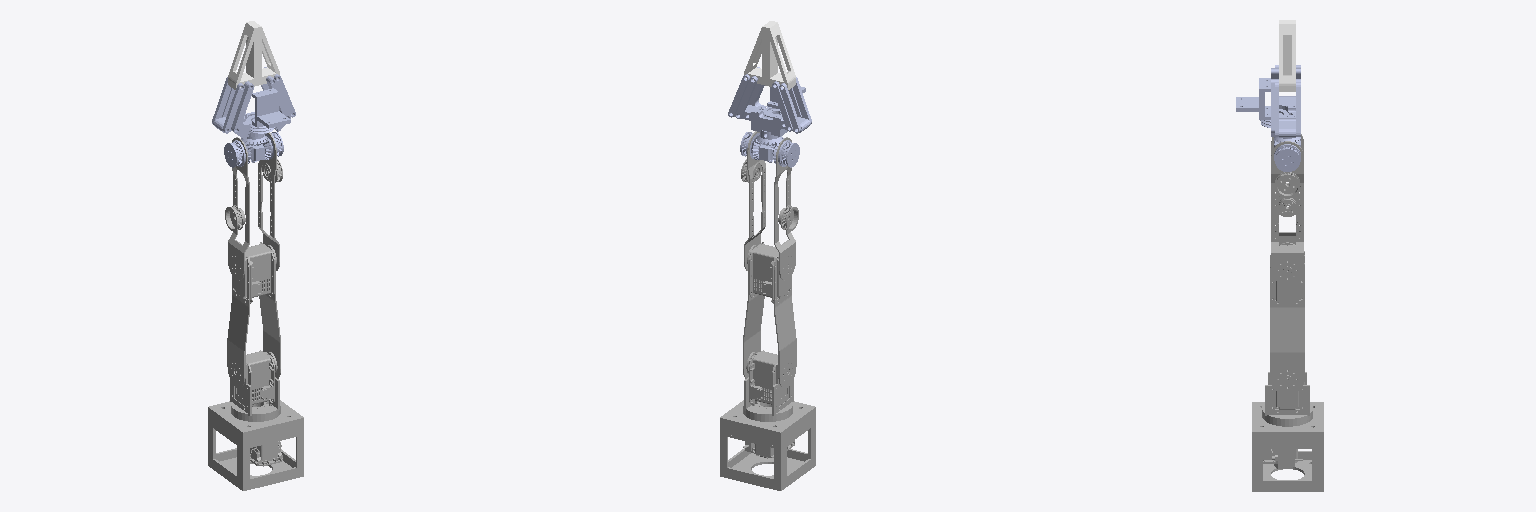
robot.urdf — arm_robot_description:
<?xml version="1.0" encoding="utf-8"?>
<!-- This URDF was automatically created by SolidWorks to URDF Exporter! Originally created by Stephen Brawner (brawner@gmail.com) 
     Commit Version: 1.6.0-4-g7f85cfe  Build Version: 1.6.7995.38578
     For more information, please see http://wiki.ros.org/sw_urdf_exporter -->
<robot
  name="arm_robot_description">
  <link
    name="base_link">
    <visual>
      <origin
        xyz="0 0 0"
        rpy="0 0 0" />
      <geometry>
        <mesh
          filename="package://arm_robot_description/meshes/base_link.STL" />
      </geometry>
      <material
        name="">
        <color
          rgba="0.752941176470588 0.752941176470588 0.752941176470588 1" />
      </material>
    </visual>
    <collision>
      <origin
        xyz="0 0 0"
        rpy="0 0 0" />
      <geometry>
        <mesh
          filename="package://arm_robot_description/meshes/base_link.STL" />
      </geometry>
    </collision>
  </link>
  <link
    name="shoulder_link">
    <inertial>
      <origin
        xyz="0.000963679642365663 0.0577904979483488 -9.50062831804183E-05"
        rpy="0 0 0" />
      <mass
        value="0.0937952908137171" />
      <inertia
        ixx="2.94163203677392E-05"
        ixy="-4.78216785521403E-07"
        ixz="-9.68291794152728E-08"
        iyy="2.60092518486733E-05"
        iyz="-1.13045243628439E-08"
        izz="3.10075174738564E-05" />
    </inertial>
    <visual>
      <origin
        xyz="0 0 0"
        rpy="0 0 0" />
      <geometry>
        <mesh
          filename="package://arm_robot_description/meshes/shoulder_link.STL" />
      </geometry>
      <material
        name="">
        <color
          rgba="0.752941176470588 0.752941176470588 0.752941176470588 1" />
      </material>
    </visual>
    <collision>
      <origin
        xyz="0 0 0"
        rpy="0 0 0" />
      <geometry>
        <mesh
          filename="package://arm_robot_description/meshes/shoulder_link.STL" />
      </geometry>
    </collision>
  </link>
  <joint
    name="shoulder_joint"
    type="revolute">
    <origin
      xyz="0.042 -0.042 0.052082"
      rpy="1.570796327 0 -3.1415926536" />
    <parent
      link="base_link" />
    <child
      link="shoulder_link" />
    <axis
      xyz="0 1 0" />
    <limit
      lower="-3.1415926536"
      upper="3.1415926536"
      effort="0"
      velocity="0" />
  </joint>
  <link
    name="upperarm_link">
    <inertial>
      <origin
        xyz="0.0393296521650432 -0.0955117843738581 3.5171956702662E-07"
        rpy="0 0 0" />
      <mass
        value="0.106266316809038" />
      <inertia
        ixx="9.43010109053496E-05"
        ixy="-5.069300878039E-07"
        ixz="4.25324654345257E-11"
        iyy="2.01302460392975E-05"
        iyz="1.88515951791571E-13"
        izz="9.21413861518418E-05" />
    </inertial>
    <visual>
      <origin
        xyz="0 0 0"
        rpy="0 0 0" />
      <geometry>
        <mesh
          filename="package://arm_robot_description/meshes/upperarm_link.STL" />
      </geometry>
      <material
        name="">
        <color
          rgba="0.752941176470588 0.752941176470588 0.752941176470588 1" />
      </material>
    </visual>
    <collision>
      <origin
        xyz="0 0 0"
        rpy="0 0 0" />
      <geometry>
        <mesh
          filename="package://arm_robot_description/meshes/upperarm_link.STL" />
      </geometry>
    </collision>
  </link>
  <joint
    name="upperarm_joint"
    type="revolute">
    <origin
      xyz="-0.036613 0.084019 0"
      rpy="3.1415926536 0 0" />
    <parent
      link="shoulder_link" />
    <child
      link="upperarm_link" />
    <axis
      xyz="1 0 0" />
    <limit
      lower="-1.570796327"
      upper="1.570796327"
      effort="0"
      velocity="0" />
  </joint>
  <link
    name="forearm_link">
    <inertial>
      <origin
        xyz="-0.00379914392129819 -0.0675895141224325 1.11022302462516E-16"
        rpy="0 0 0" />
      <mass
        value="0.0738289635729949" />
      <inertia
        ixx="0.000101606244132764"
        ixy="2.11583914183042E-22"
        ixz="-1.86726194029619E-12"
        iyy="8.93040327450558E-06"
        iyz="-3.01427046942224E-19"
        izz="9.41733072382026E-05" />
    </inertial>
    <visual>
      <origin
        xyz="0 0 0"
        rpy="0 0 0" />
      <geometry>
        <mesh
          filename="package://arm_robot_description/meshes/forearm_link.STL" />
      </geometry>
      <material
        name="">
        <color
          rgba="0.752941176470588 0.752941176470588 0.752941176470588 1" />
      </material>
    </visual>
    <collision>
      <origin
        xyz="0 0 0"
        rpy="0 0 0" />
      <geometry>
        <mesh
          filename="package://arm_robot_description/meshes/forearm_link.STL" />
      </geometry>
    </collision>
  </link>
  <joint
    name="forearm_joint"
    type="revolute">
    <origin
      xyz="0.035651 -0.14 0"
      rpy="3.1415926536 0 3.1415926536" />
    <parent
      link="upperarm_link" />
    <child
      link="forearm_link" />
    <axis
      xyz="1 0 0" />
    <limit
      lower="-1.570796327"
      upper="1.570796327"
      effort="0"
      velocity="0" />
  </joint>
  <link
    name="wrist_link">
    <inertial>
      <origin
        xyz="-5.9548301278578E-05 0.0309219607518911 -3.52055394473028E-05"
        rpy="0 0 0" />
      <mass
        value="0.0312687952088218" />
      <inertia
        ixx="2.36442877114977E-06"
        ixy="-2.65552878745857E-09"
        ixz="-2.24830540296741E-07"
        iyy="3.26245065540287E-06"
        iyz="4.49109404910189E-09"
        izz="2.53633915404046E-06" />
    </inertial>
    <visual>
      <origin
        xyz="0 0 0"
        rpy="0 0 0" />
      <geometry>
        <mesh
          filename="package://arm_robot_description/meshes/wrist_link.STL" />
      </geometry>
      <material
        name="">
        <color
          rgba="0.792156862745098 0.819607843137255 0.933333333333333 1" />
      </material>
    </visual>
    <collision>
      <origin
        xyz="0 0 0"
        rpy="0 0 0" />
      <geometry>
        <mesh
          filename="package://arm_robot_description/meshes/wrist_link.STL" />
      </geometry>
    </collision>
  </link>
  <joint
    name="wrist_joint"
    type="revolute">
    <origin
      xyz="-0.035049 -0.145 0"
      rpy="0 -0.96942 -1.570796327" />
    <parent
      link="forearm_link" />
    <child
      link="wrist_link" />
    <axis
      xyz="0 -1 0" />
    <limit
      lower="-1.6"
      upper="1.6"
      effort="0"
      velocity="0" />
  </joint>
  <link
    name="frame_link">
    <inertial>
      <origin
        xyz="0.00423615580807838 0.00251757352994463 0.037073257530931"
        rpy="0 0 0" />
      <mass
        value="0.0971603253782602" />
      <inertia
        ixx="3.61475773412502E-05"
        ixy="1.3650130640794E-05"
        ixz="7.26831148623548E-07"
        iyy="2.03809535466644E-05"
        iyz="4.18500158510254E-07"
        izz="4.68109199288427E-05" />
    </inertial>
    <visual>
      <origin
        xyz="0 0 0"
        rpy="0 0 0" />
      <geometry>
        <mesh
          filename="package://arm_robot_description/meshes/frame_link.STL" />
      </geometry>
      <material
        name="">
        <color
          rgba="0.792156862745098 0.819607843137255 0.933333333333333 1" />
      </material>
    </visual>
    <collision>
      <origin
        xyz="0 0 0"
        rpy="0 0 0" />
      <geometry>
        <mesh
          filename="package://arm_robot_description/meshes/frame_link.STL" />
      </geometry>
    </collision>
  </link>
  <joint
    name="frame_joint"
    type="revolute">
    <origin
      xyz="0.0036775 0.03125 -0.0053596"
      rpy="-2.8111 0.51206 -2.5307" />
    <parent
      link="wrist_link" />
    <child
      link="frame_link" />
    <axis
      xyz="0 0 1" />
    <limit
      lower="-3.1415926536"
      upper="3.1415926536"
      effort="0"
      velocity="0" />
  </joint>
  <link
    name="worm_link">
    <inertial>
      <origin
        xyz="0.000260518944933091 0.000117382605098179 0.00451004543272632"
        rpy="0 0 0" />
      <mass
        value="0.00449816970666781" />
      <inertia
        ixx="4.14594786131159E-07"
        ixy="1.40083855679959E-10"
        ixz="-2.46228289212281E-10"
        iyy="4.1416094521697E-07"
        iyz="-1.00268234450091E-09"
        izz="7.65193389522088E-07" />
    </inertial>
    <visual>
      <origin
        xyz="0 0 0"
        rpy="0 0 0" />
      <geometry>
        <mesh
          filename="package://arm_robot_description/meshes/worm_link.STL" />
      </geometry>
      <material
        name="">
        <color
          rgba="0.792156862745098 0.819607843137255 0.933333333333333 1" />
      </material>
    </visual>
    <collision>
      <origin
        xyz="0 0 0"
        rpy="0 0 0" />
      <geometry>
        <mesh
          filename="package://arm_robot_description/meshes/worm_link.STL" />
      </geometry>
    </collision>
  </link>
  <joint
    name="worm_joint"
    type="revolute">
    <origin
      xyz="0.01299 0.0075 0.038"
      rpy="3.1415926536 0 -3.0183" />
    <parent
      link="frame_link" />
    <child
      link="worm_link" />
    <axis
      xyz="0 0 1" />
    <limit
      lower="0"
      upper="3.1415926536"
      effort="0"
      velocity="0" />
  </joint>
  <link
    name="camera_link">
    <inertial>
      <origin
        xyz="-5.1064E-05 0.021054 0.0043102"
        rpy="0 0 0" />
      <mass
        value="0.06" />
      <inertia
        ixx="6.3369E-06"
        ixy="-1.7614E-10"
        ixz="-1.0223E-09"
        iyy="6.3143E-06"
        iyz="-2.0617E-09"
        izz="1.1586E-05" />
    </inertial>
    <!--<visual>
      <origin
        xyz="0 0 0"
        rpy="0 0 0" />
      <geometry>
        <mesh
          filename="package://arm_robot_description/meshes/camera_link.STL" />
      </geometry>
      <material
        name="">
        <color
          rgba="1 1 1 1" />
      </material>
    </visual>
    <collision>
      <origin
        xyz="0 0 0"
        rpy="0 0 0" />
      <geometry>
        <mesh
          filename="package://arm_robot_description/meshes/camera_link.STL" />
      </geometry>
    </collision>-->
  </link>
  <joint
    name="camera_joint"
    type="fixed">
    <origin
      xyz="0.028329 0.016933 0.06075"
      rpy="-1.5707963268 -1.5707963268 -1.0472" /> <!-- This reorients the camera AND pointcloud -->
    <parent
      link="frame_link" />
    <child
      link="camera_link" />
    <axis
      xyz="0 0 0" />
  </joint>
  <link
    name="left_inner_link">
    <inertial>
      <origin
        xyz="0.00295374681981073 -0.00172924903482494 -0.0202562653029812"
        rpy="0 0 0" />
      <mass
        value="0.00921636410970939" />
      <inertia
        ixx="3.15977166254403E-06"
        ixy="8.94327155107839E-11"
        ixz="-4.83078423739066E-07"
        iyy="3.37677241931955E-06"
        iyz="1.24222051728893E-10"
        izz="3.4311273454431E-07" />
    </inertial>
    <visual>
      <origin
        xyz="0 0 0"
        rpy="0 0 0" />
      <geometry>
        <mesh
          filename="package://arm_robot_description/meshes/left_inner_link.STL" />
      </geometry>
      <material
        name="">
        <color
          rgba="0.792156862745098 0.819607843137255 0.933333333333333 1" />
      </material>
    </visual>
    <collision>
      <origin
        xyz="0 0 0"
        rpy="0 0 0" />
      <geometry>
        <mesh
          filename="package://arm_robot_description/meshes/left_inner_link.STL" />
      </geometry>
    </collision>
  </link>
  <joint
    name="left_inner_joint"
    type="revolute">
    <origin
      xyz="0.02616 -0.025311 0.035"
      rpy="3.1415926536 0.37217 2.0944" />
    <parent
      link="frame_link" />
    <child
      link="left_inner_link" />
    <axis
      xyz="0 1 0" />
    <limit
      lower="0"
      upper="0.6"
      effort="0"
      velocity="0" />
    <mimic
      joint="worm_joint"
      multiplier="0.190991564"
      offset="0" />
  </joint>
  <link
    name="left_finger_link">
    <inertial>
      <origin
        xyz="0.00511565604680594 0.0100000000000003 -0.0244249931550103"
        rpy="0 0 0" />
      <mass
        value="0.0160596004014874" />
      <inertia
        ixx="9.38451157380704E-06"
        ixy="-3.43741641172726E-21"
        ixz="1.54039618799638E-06"
        iyy="1.0073020861505E-05"
        iyz="8.98402572391069E-21"
        izz="1.87995862434743E-06" />
    </inertial>
    <visual>
      <origin
        xyz="0 0 0"
        rpy="0 0 0" />
      <geometry>
        <mesh
          filename="package://arm_robot_description/meshes/left_finger_link.STL" />
      </geometry>
      <material
        name="">
        <color
          rgba="1 1 1 1" />
      </material>
    </visual>
    <collision>
      <origin
        xyz="0 0 0"
        rpy="0 0 0" />
      <geometry>
        <mesh
          filename="package://arm_robot_description/meshes/left_finger_link.STL" />
      </geometry>
    </collision>
  </link>
  <joint
    name="left_finger_joint"
    type="revolute">
    <origin
      xyz="0 -0.02 -0.055"
      rpy="0 0.37217 0" />
    <parent
      link="left_inner_link" />
    <child
      link="left_finger_link" />
    <axis
      xyz="0 1 0" />
    <limit
      lower="-0.6"
      upper="0"
      effort="0"
      velocity="0" />
    <mimic
      joint="left_inner_joint"
      multiplier="-1"
      offset="0" />
  </joint>
  <link
    name="right_inner_link">
    <inertial>
      <origin
        xyz="0.00295374681981056 0.0117276610278346 -0.0202562653029817"
        rpy="0 0 0" />
      <mass
        value="0.00921636410970938" />
      <inertia
        ixx="3.15977166254403E-06"
        ixy="8.94327155090331E-11"
        ixz="-4.83078423739054E-07"
        iyy="3.37677241931954E-06"
        iyz="1.24222051731463E-10"
        izz="3.43112734544309E-07" />
    </inertial>
    <visual>
      <origin
        xyz="0 0 0"
        rpy="0 0 0" />
      <geometry>
        <mesh
          filename="package://arm_robot_description/meshes/right_inner_link.STL" />
      </geometry>
      <material
        name="">
        <color
          rgba="0.792156862745098 0.819607843137255 0.933333333333333 1" />
      </material>
    </visual>
    <collision>
      <origin
        xyz="0 0 0"
        rpy="0 0 0" />
      <geometry>
        <mesh
          filename="package://arm_robot_description/meshes/right_inner_link.STL" />
      </geometry>
    </collision>
  </link>
  <joint
    name="right_inner_joint"
    type="revolute">
    <origin
      xyz="-0.00017949 0.040311 0.035"
      rpy="3.1415926536 0.37217 -1.0472" />
    <parent
      link="frame_link" />
    <child
      link="right_inner_link" />
    <axis
      xyz="0 -1 0" />
    <limit
      lower="-0.6"
      upper="0"
      effort="0"
      velocity="0" />
    <mimic
      joint="worm_joint"
      multiplier="-0.190991564"
      offset="0" />
  </joint>
  <link
    name="right_finger_link">
    <inertial>
      <origin
        xyz="0.00511565604680823 0.00999999999999974 -0.0244249931550099"
        rpy="0 0 0" />
      <mass
        value="0.0160596004014874" />
      <inertia
        ixx="9.38451157380674E-06"
        ixy="-3.65454764450331E-21"
        ixz="1.54039618799715E-06"
        iyy="1.0073020861505E-05"
        iyz="7.47838052557991E-21"
        izz="1.87995862434775E-06" />
    </inertial>
    <visual>
      <origin
        xyz="0 0 0"
        rpy="0 0 0" />
      <geometry>
        <mesh
          filename="package://arm_robot_description/meshes/right_finger_link.STL" />
      </geometry>
      <material
        name="">
        <color
          rgba="1 1 1 1" />
      </material>
    </visual>
    <collision>
      <origin
        xyz="0 0 0"
        rpy="0 0 0" />
      <geometry>
        <mesh
          filename="package://arm_robot_description/meshes/right_finger_link.STL" />
      </geometry>
    </collision>
  </link>
  <joint
    name="right_finger_joint"
    type="revolute">
    <origin
      xyz="0 0.01 -0.055"
      rpy="0 0.37217 0" />
    <parent
      link="right_inner_link" />
    <child
      link="right_finger_link" />
    <axis
      xyz="0 1 0" />
    <limit
      lower="-0.6"
      upper="0"
      effort="0"
      velocity="0" />
    <mimic
      joint="right_inner_joint"
      multiplier="1"
      offset="0" />
  </joint>
  <link
    name="left_outer_link">
    <inertial>
      <origin
        xyz="1.11022302462516E-16 -0.00999999999999943 -0.0274999999999999"
        rpy="0 0 0" />
      <mass
        value="0.00450995574287564" />
      <inertia
        ixx="1.25004679866384E-06"
        ixy="8.80640842801115E-24"
        ixz="-3.18299099710405E-21"
        iyy="1.26551475118266E-06"
        iyz="4.5157491829455E-22"
        izz="3.42594347808008E-08" />
    </inertial>
    <visual>
      <origin
        xyz="0 0 0"
        rpy="0 0 0" />
      <geometry>
        <mesh
          filename="package://arm_robot_description/meshes/left_outer_link.STL" />
      </geometry>
      <material
        name="">
        <color
          rgba="0.792156862745098 0.819607843137255 0.933333333333333 1" />
      </material>
    </visual>
    <collision>
      <origin
        xyz="0 0 0"
        rpy="0 0 0" />
      <geometry>
        <mesh
          filename="package://arm_robot_description/meshes/left_outer_link.STL" />
      </geometry>
    </collision>
  </link>
  <joint
    name="left_outer_joint"
    type="revolute">
    <origin
      xyz="0.03116 -0.033971 0.035"
      rpy="3.1415926536 0.37217 2.0944" />
    <parent
      link="frame_link" />
    <child
      link="left_outer_link" />
    <axis
      xyz="0 1 0" />
    <limit
      lower="0"
      upper="0.6"
      effort="0"
      velocity="0" />
    <mimic
      joint="left_inner_joint"
      multiplier="1"
      offset="0" />
  </joint>
  <link
    name="right_outer_link">
    <inertial>
      <origin
        xyz="2.77555756156289E-17 0.015 -0.0275"
        rpy="0 0 0" />
      <mass
        value="0.00450995574287564" />
      <inertia
        ixx="1.25004679866384E-06"
        ixy="-8.75366721974071E-24"
        ixz="-1.1059404789834E-21"
        iyy="1.26551475118266E-06"
        iyz="-5.0099741919037E-22"
        izz="3.42594347808009E-08" />
    </inertial>
    <visual>
      <origin
        xyz="0 0 0"
        rpy="0 0 0" />
      <geometry>
        <mesh
          filename="package://arm_robot_description/meshes/right_outer_link.STL" />
      </geometry>
      <material
        name="">
        <color
          rgba="0.792156862745098 0.819607843137255 0.933333333333333 1" />
      </material>
    </visual>
    <collision>
      <origin
        xyz="0 0 0"
        rpy="0 0 0" />
      <geometry>
        <mesh
          filename="package://arm_robot_description/meshes/right_outer_link.STL" />
      </geometry>
    </collision>
  </link>
  <joint
    name="right_outer_joint"
    type="revolute">
    <origin
      xyz="-0.0095096 0.046471 0.035"
      rpy="3.1415926536 0.37217 -1.0472" />
    <parent
      link="frame_link" />
    <child
      link="right_outer_link" />
    <axis
      xyz="0 -1 0" />
    <limit
      lower="-0.6"
      upper="0"
      effort="0"
      velocity="0" />
    <mimic
      joint="right_inner_joint"
      multiplier="1"
      offset="0" />
  </joint>
</robot>

--- What the picture shows (computed from the rendered views, not written in the file) ---
3 views of the same robot in one strip: view 1: azimuth 30°, elevation 25°; view 2: azimuth 150°, elevation 25°; view 3: azimuth 270°, elevation 25° (orthographic).
Robot: arm_robot_description — 14 links, 13 joints (12 revolute, 1 fixed); root link base_link; default pose: all joints at 0.
Links seen in each view (by area): view 1: base_link, upperarm_link, forearm_link, shoulder_link, frame_link, left_finger_link, wrist_link, left_inner_link, right_finger_link, left_outer_link; view 2: base_link, upperarm_link, forearm_link, shoulder_link, frame_link, left_finger_link, wrist_link, right_finger_link, left_outer_link, right_inner_link; view 3: base_link, upperarm_link, forearm_link, shoulder_link, frame_link, right_finger_link, wrist_link.
Link boxes in pixels (bbox=[...]): base_link: bbox=[208, 400, 303, 490]; upperarm_link: bbox=[227, 242, 280, 388]; forearm_link: bbox=[225, 132, 282, 280]; shoulder_link: bbox=[230, 350, 280, 421]; frame_link: bbox=[213, 88, 292, 162]; left_finger_link: bbox=[228, 21, 257, 89]; wrist_link: bbox=[224, 132, 283, 167]; left_inner_link: bbox=[222, 81, 253, 139]; right_finger_link: bbox=[250, 21, 279, 85]; left_outer_link: bbox=[212, 77, 244, 133]; base_link: bbox=[720, 400, 815, 490]; upperarm_link: bbox=[743, 242, 796, 388]; forearm_link: bbox=[741, 131, 798, 280]; shoulder_link: bbox=[743, 350, 793, 421]; frame_link: bbox=[731, 86, 810, 162]; left_finger_link: bbox=[766, 21, 795, 89]; wrist_link: bbox=[740, 132, 799, 167]; right_finger_link: bbox=[744, 21, 773, 85]; left_outer_link: bbox=[779, 77, 811, 133]; right_inner_link: bbox=[735, 76, 767, 118]; base_link: bbox=[1252, 402, 1323, 491]; upperarm_link: bbox=[1270, 242, 1304, 394]; forearm_link: bbox=[1271, 134, 1303, 284]; shoulder_link: bbox=[1262, 370, 1312, 426]; frame_link: bbox=[1236, 78, 1300, 142]; right_finger_link: bbox=[1279, 22, 1295, 91]; wrist_link: bbox=[1274, 140, 1300, 171].
Bounding box of the posed robot: 0.0998 × 0.102 × 0.5848 m (x, y, z).
Meshes: 13 distinct files referenced, 13 mesh visuals loaded (13 binary STL).
